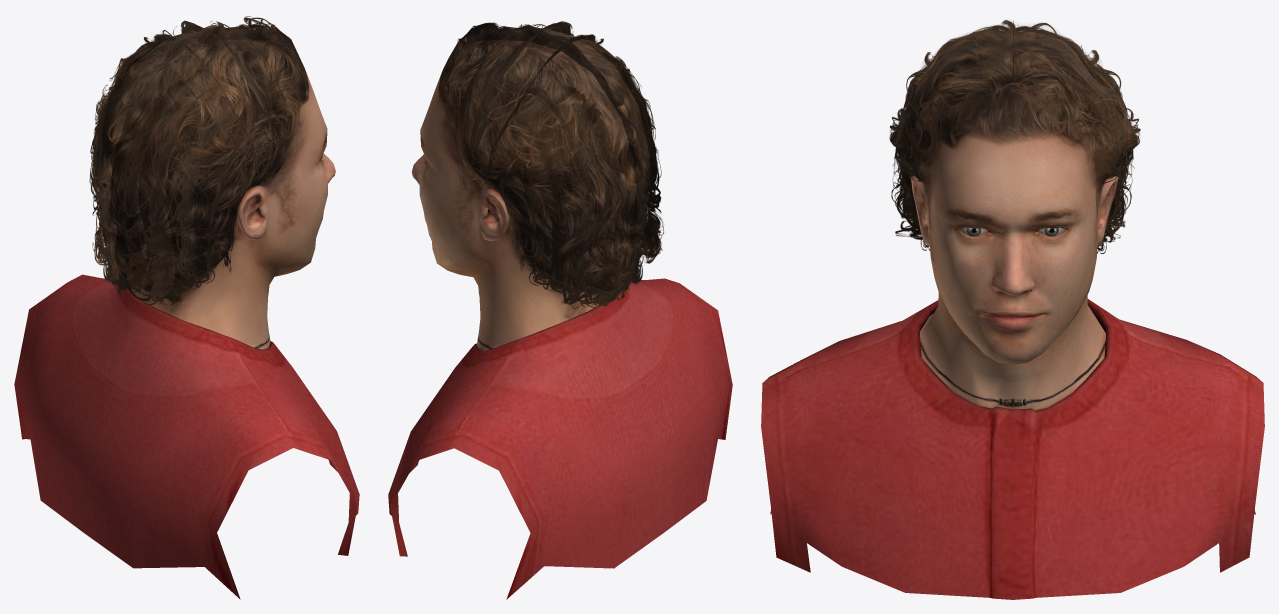
File: head.glb
3 views of the same model, side by side, from view 1: azimuth 30°, elevation 25°; view 2: azimuth 150°, elevation 25°; view 3: azimuth 270°, elevation 25° (orthographic). The views are drawn at different scales.
Visible parts, largest first — view 1: HeadMesh; view 2: HeadMesh; view 3: HeadMesh.
Part boxes in pixels (x1,y1,x2,y2): HeadMesh: (14,16,359,599); HeadMesh: (388,21,732,599); HeadMesh: (761,20,1264,599).
Bounding box in the file's own units: 28.01 × 50.85 × 43.65.
Materials: 5 (5 with a texture image).
